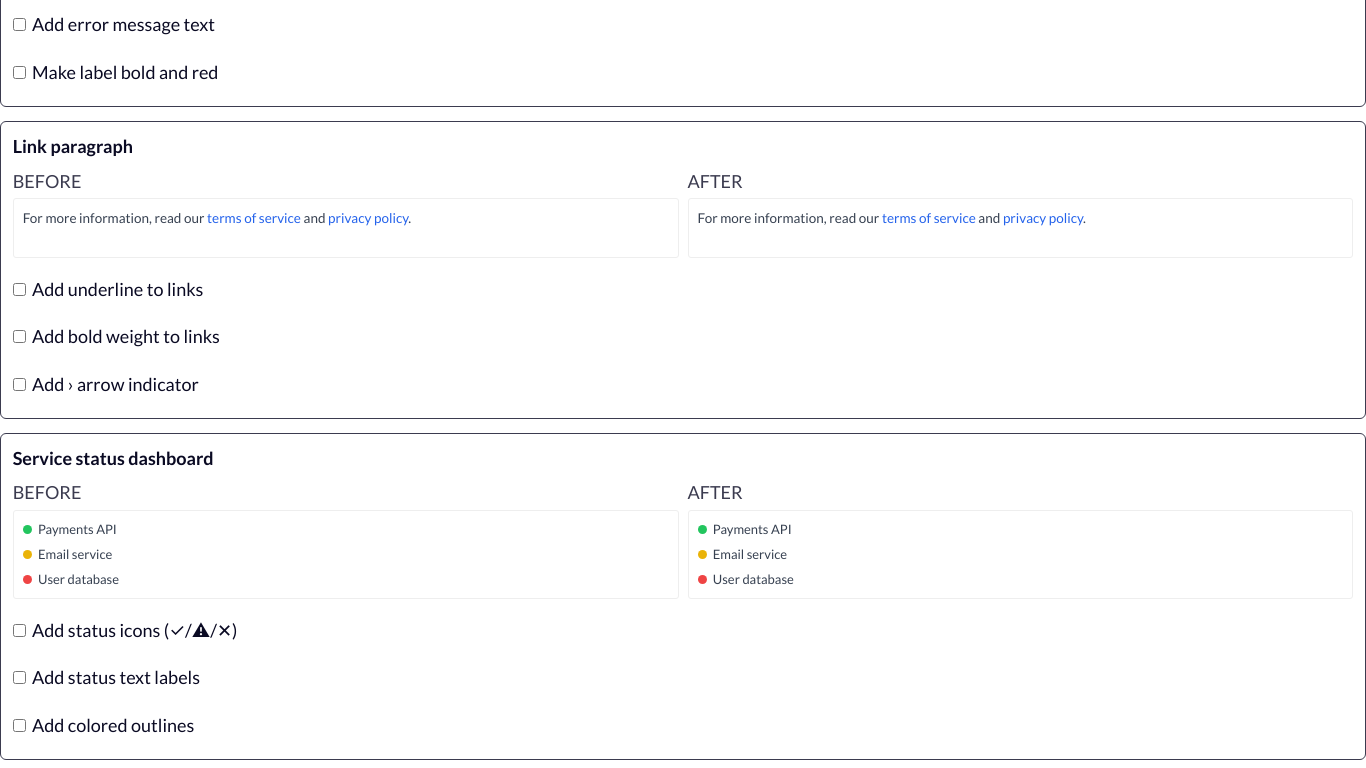
Test: PatternRepairTool › keeps Add › arrow indicator as a valid link repair
(page scrolled)
Click the checkbox labelled "Add › arrow indicator" at (19, 384), box [13,378,26,391]
(page scrolled)
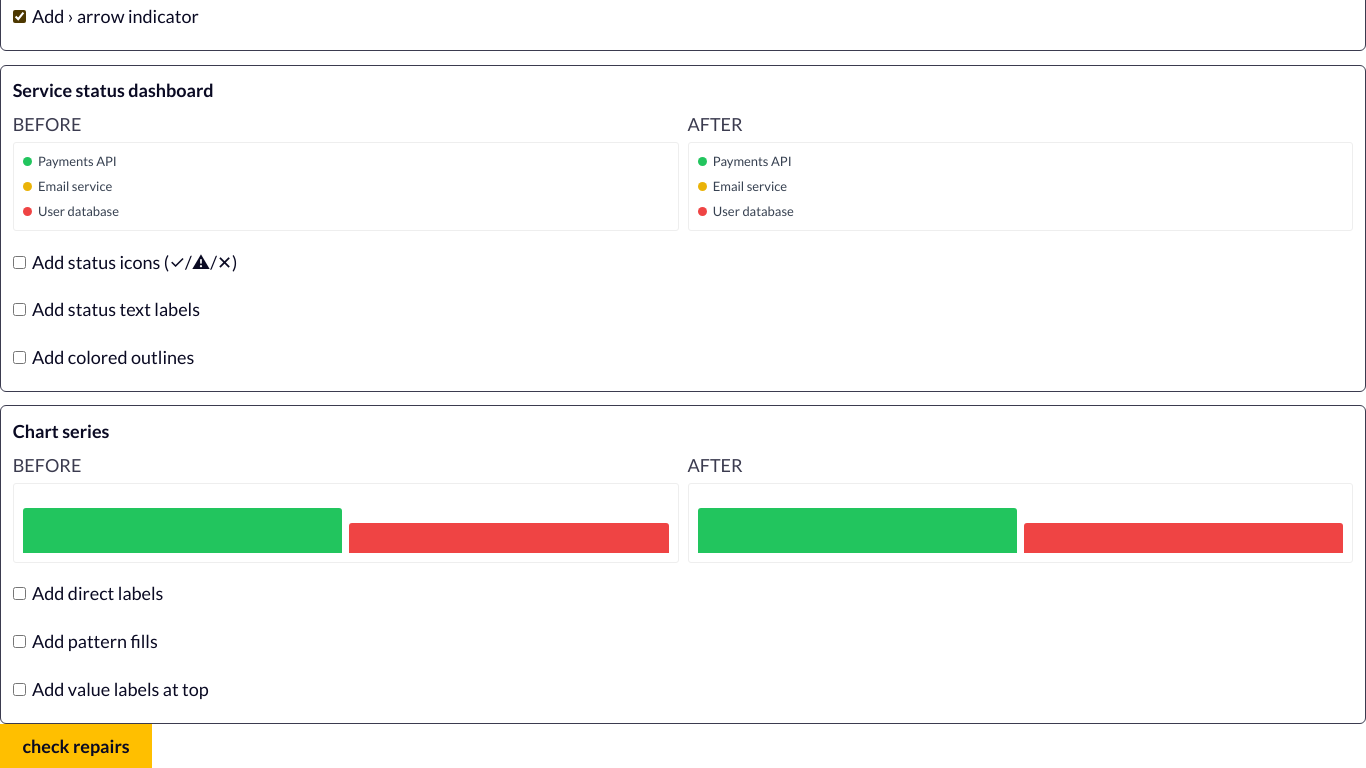
Click the button "check repairs" at (76, 746), box [0,724,152,767]
(page scrolled)
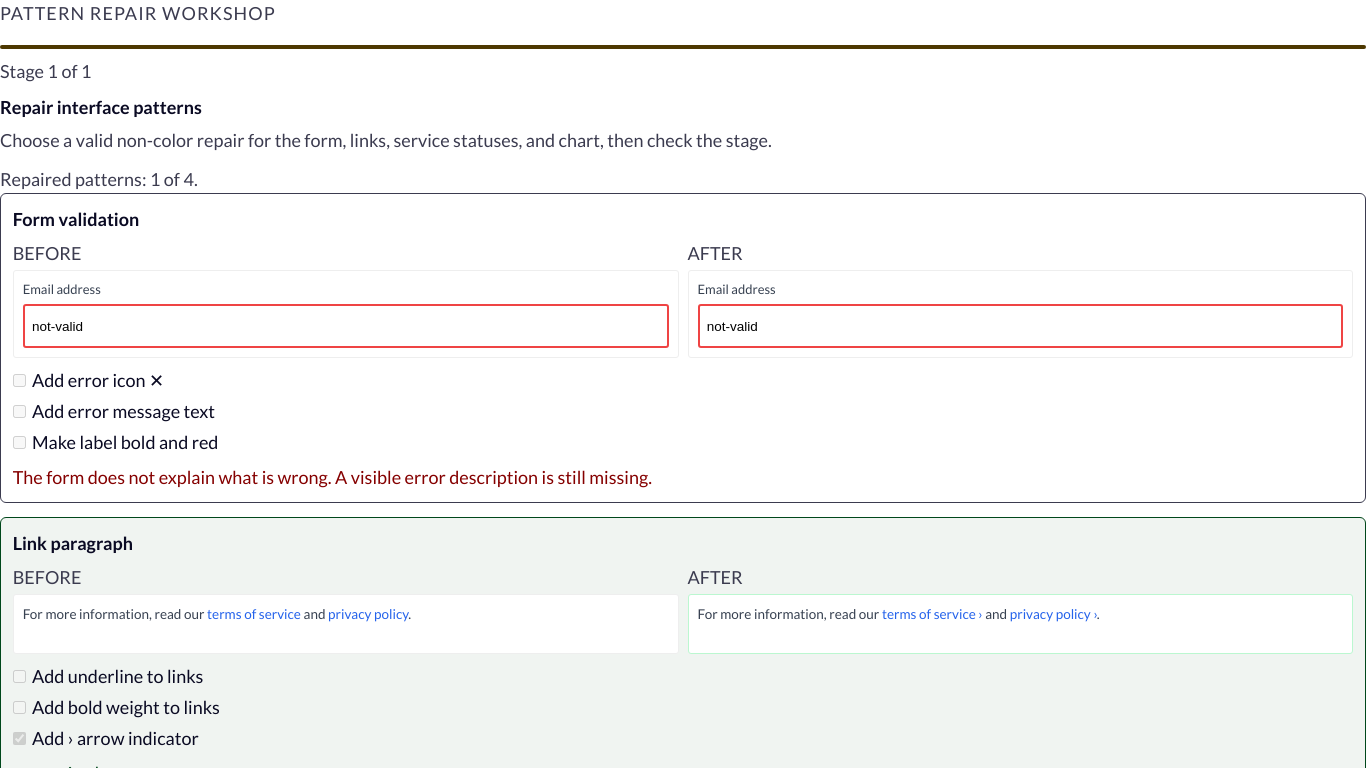
expect the text "Repaired patterns: 1 of 4." is shown: met, box [0,168,198,190]
